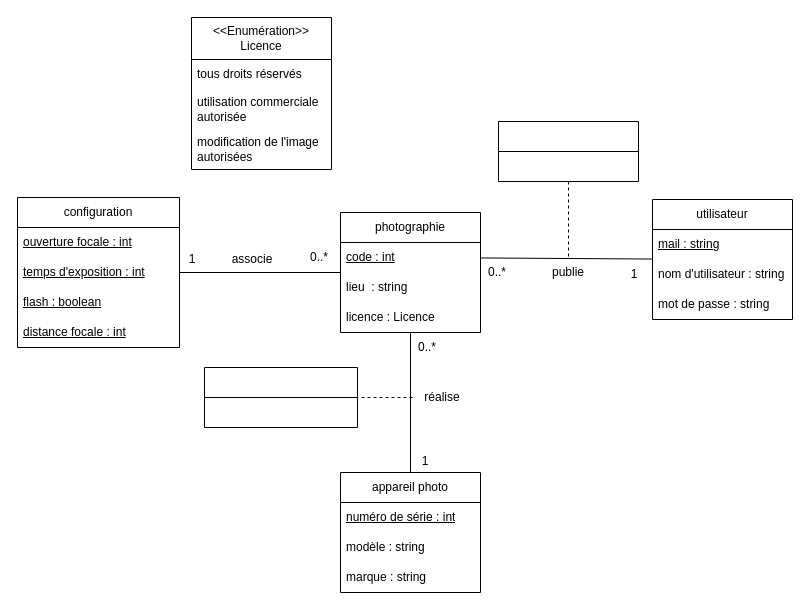
Image size: 810x610. Some labels were removed from this diagram. Each missing label, with the centre of its shape:
"date de réalisation : date" goes at pixel 281 397.
"date publication : date" goes at pixel 568 151.
